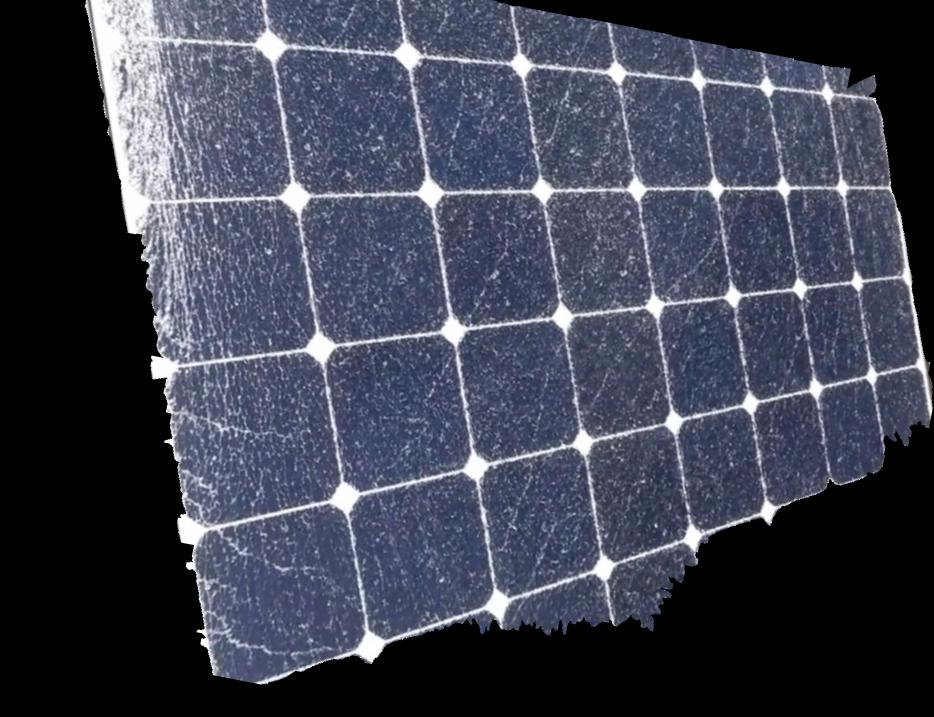Crack: (31, 0, 271, 234)
